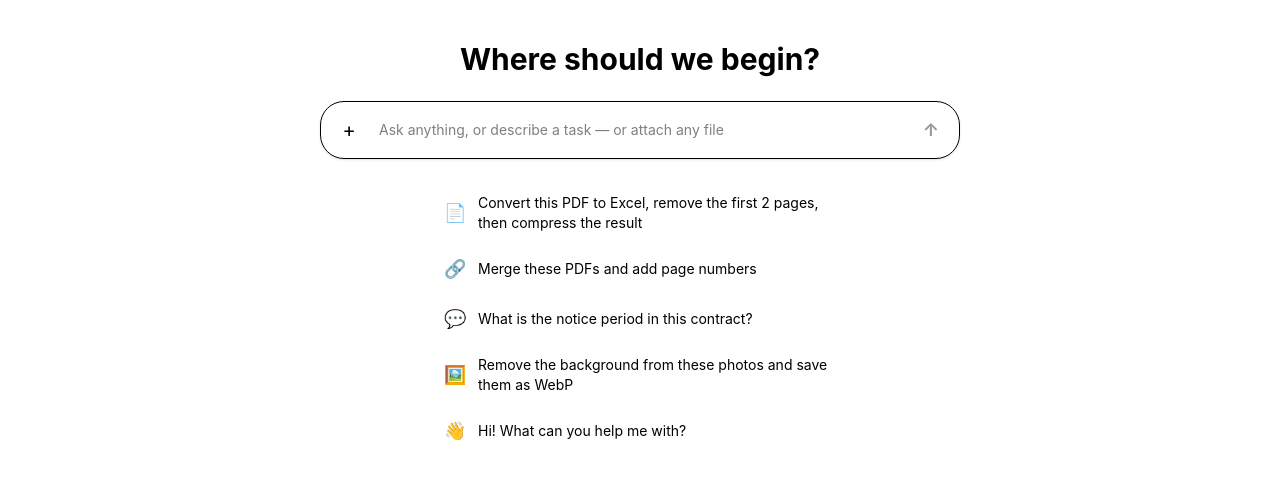
the assistant workspace › shows a plan as numbered OneStop tools before anything is run
Type "Convert this PDF to Excel, remove the first 2 pages, then compress it" into the text box with test id "assistant-request" at (640, 130), box [375,110,905,150]
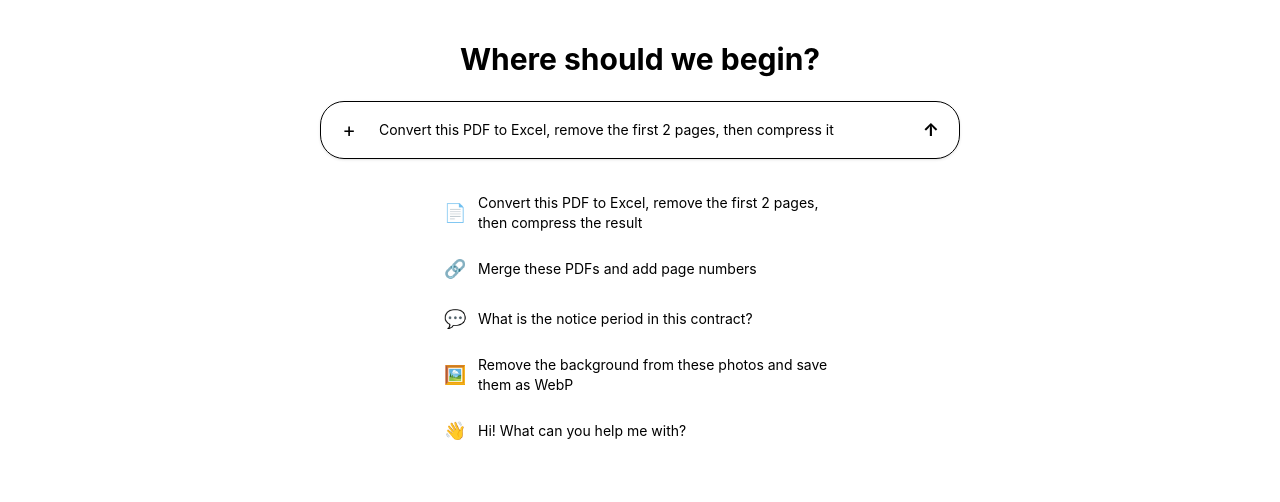
Click the button named "send" at (931, 130), box [911,110,951,150]
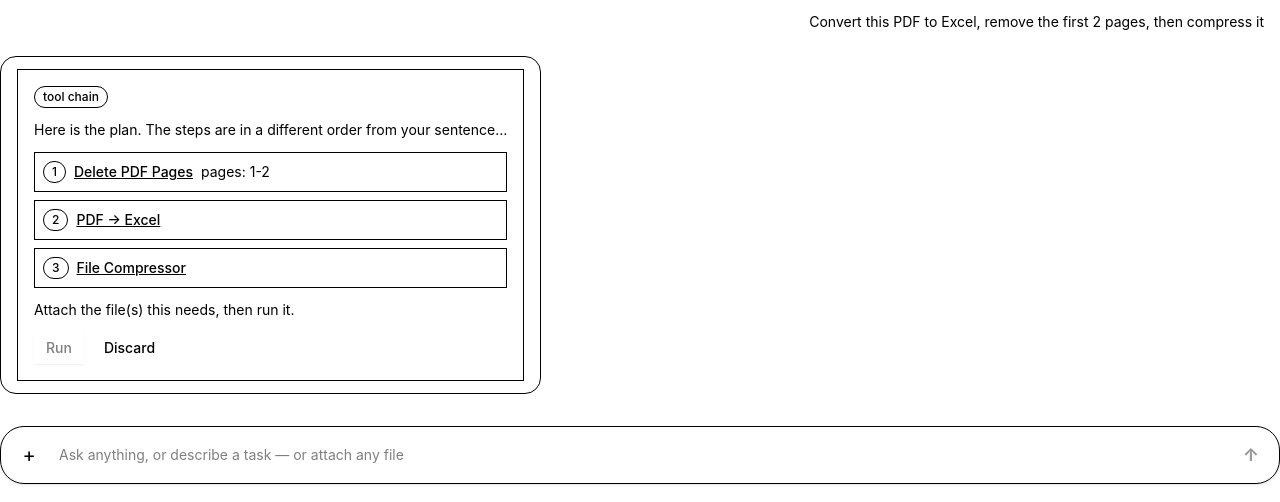
Check: the element with test id "assistant-plan" shows "Delete PDF Pages", box [74,162,193,182]
Check: the element with test id "assistant-plan" shows "PDF → Excel", box [76,210,160,230]
Check: the element with test id "assistant-plan" shows "File Compressor", box [76,258,186,278]
